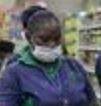with_facemask: (32, 41, 67, 64)
